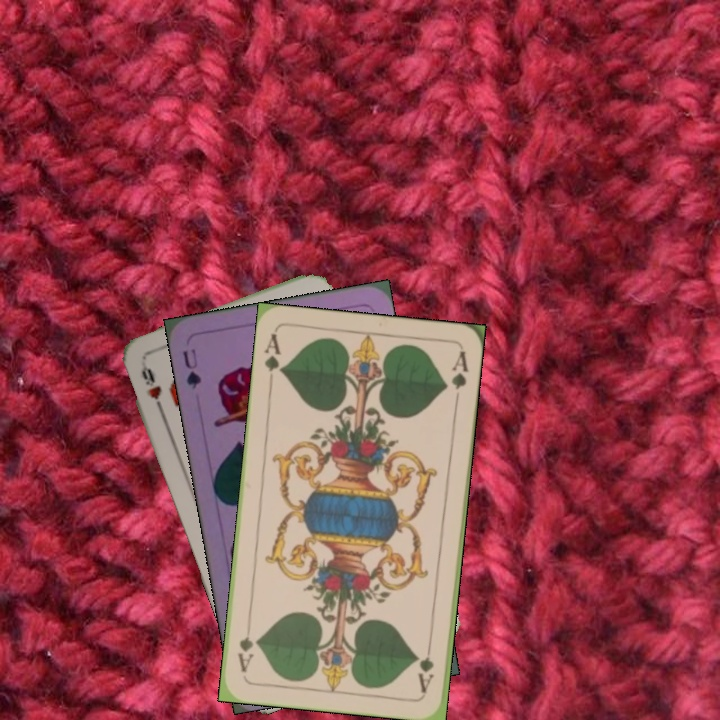GA: (260, 329, 286, 388), (414, 636, 437, 695)
GU: (179, 345, 204, 392)
H9: (137, 359, 167, 416)
